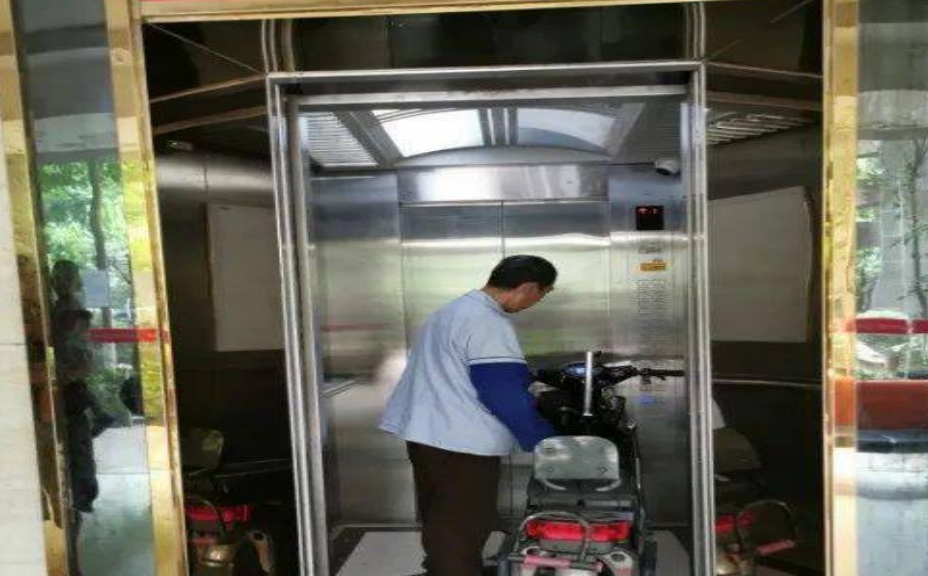ebike: (495, 361, 683, 576)
person: (385, 256, 557, 576)
